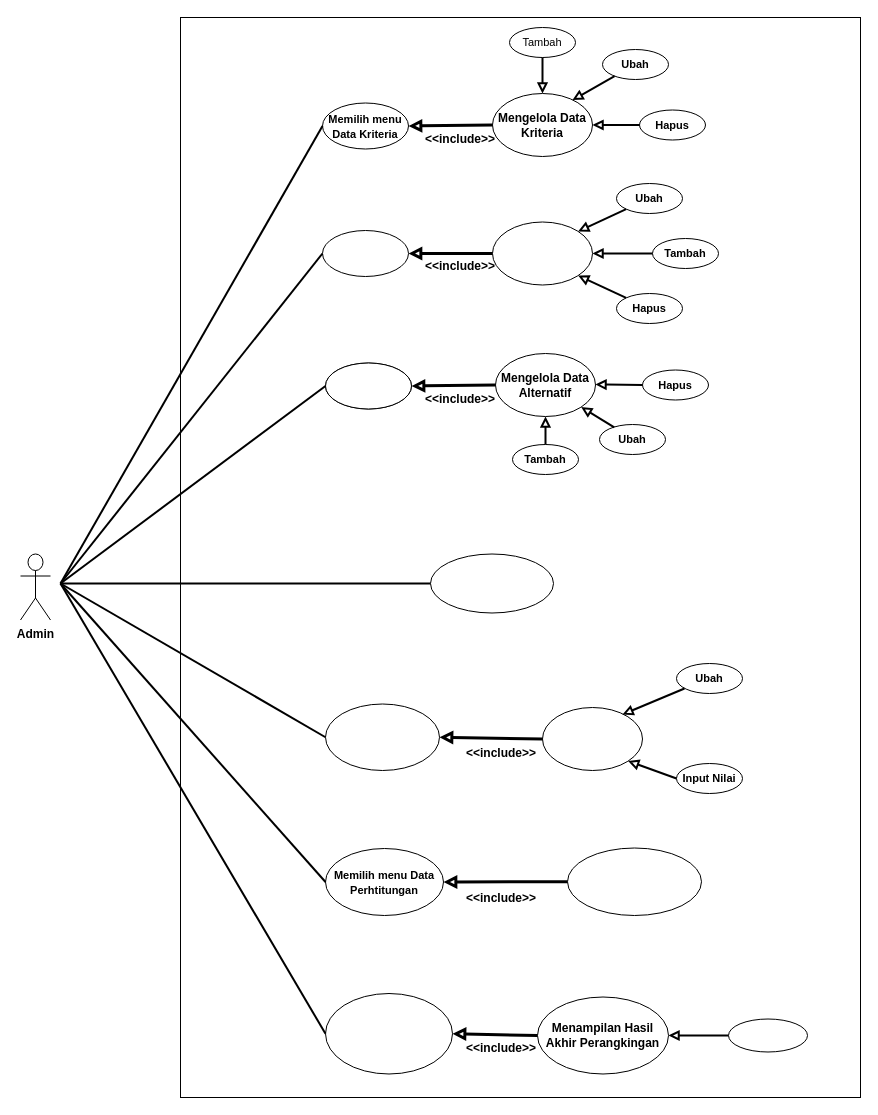
This 878x1115 diagram has some shape labels left out. Each missing label, with the box of its shape:
Cetak Data: (728, 1018, 808, 1052)
Login: (430, 553, 554, 613)
Memilih menu Data Alternatif: (324, 362, 412, 409)
Memilih menu Data Hasil Akhir: (324, 992, 452, 1074)
Memilih menu Data Penilaian: (324, 703, 440, 770)
Memilih menu Sub Kriteria: (322, 230, 408, 276)
Menampilkan Hasil Perhitungan ARAS: (566, 847, 702, 916)
Mengelola Data Penilaian: (542, 706, 642, 770)
Mengelola Data Sub Kriteria: (492, 221, 592, 285)
